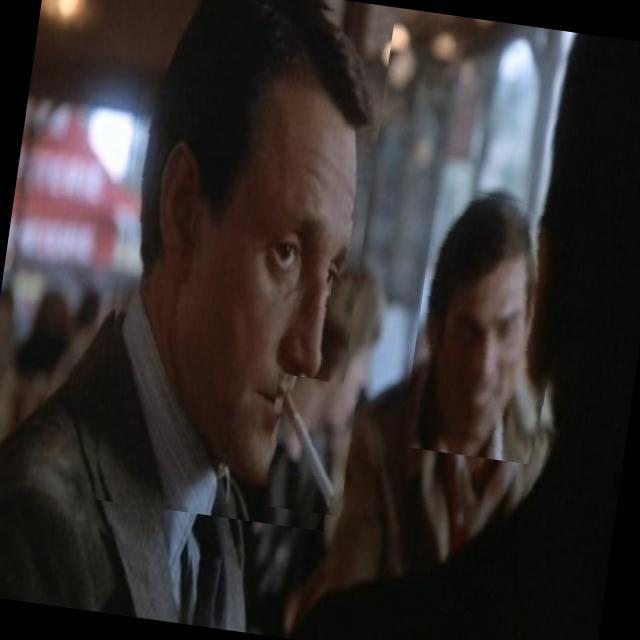cigarette: (260, 373, 358, 516)
